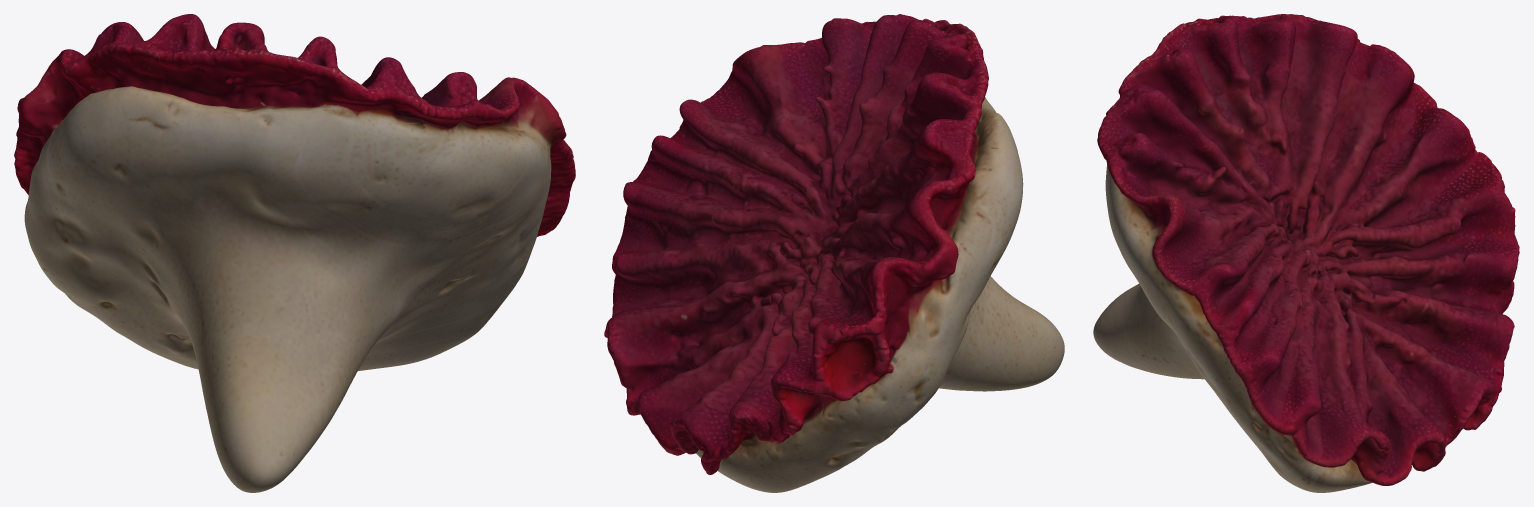
Rendered from sponge_fan.glb.
The picture shows the model from 3 angles, left to right: view 1: azimuth 30°, elevation 25°; view 2: azimuth 150°, elevation 25°; view 3: azimuth 270°, elevation 25°; orthographic projection. The views are drawn at different scales.
Parts seen in each view (by area): view 1: tripo_node_8b5b6734-8e8f-43b8-8847-276db0d55988; view 2: tripo_node_8b5b6734-8e8f-43b8-8847-276db0d55988; view 3: tripo_node_8b5b6734-8e8f-43b8-8847-276db0d55988.
Boxes of the visible parts, box(x1,y1,x2,y2) form: tripo_node_8b5b6734-8e8f-43b8-8847-276db0d55988: box(14, 14, 575, 492); tripo_node_8b5b6734-8e8f-43b8-8847-276db0d55988: box(604, 14, 1064, 492); tripo_node_8b5b6734-8e8f-43b8-8847-276db0d55988: box(1093, 14, 1519, 492).
Size of the model in its own units: 1 by 0.907 by 0.906.
Materials: 1 (1 with a texture image).
